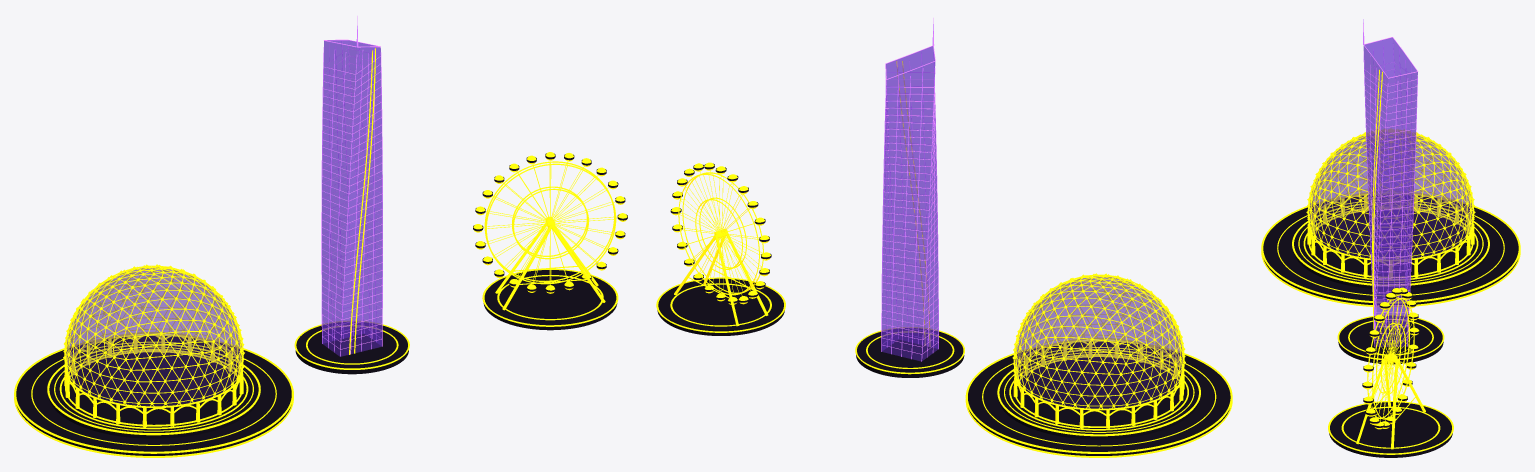
The model's file is heroes.glb.
3 renders of one model, left to right at view 1: azimuth 30°, elevation 25°; view 2: azimuth 150°, elevation 25°; view 3: azimuth 270°, elevation 25°, orthographic. The views are drawn at different scales.
Visible parts, largest first — view 1: Platform_Tiers, Tower_Glass, Dome_Glass, Dome_Lattice, Tower_Edges, Wheel_Platform, Platform_Rims, Tower_Platform, Dome_Colonnade, Wheel_Spokes, Dome_Joints, Wheel_Rims (+6 smaller); view 2: Platform_Tiers, Tower_Glass, Dome_Glass, Dome_Lattice, Tower_Edges, Wheel_Platform, Platform_Rims, Tower_Platform, Dome_Colonnade, Dome_Joints, Wheel_Spokes, Wheel_Rims (+5 smaller); view 3: Platform_Tiers, Tower_Glass, Dome_Glass, Dome_Lattice, Tower_Edges, Wheel_Platform, Platform_Rims, Dome_Colonnade, Tower_Platform, Dome_Joints, Wheel_Spokes, Wheel_HubPods (+6 smaller).
Boxes of the visible parts, bbox=[...] form: Platform_Tiers: bbox=[16, 336, 291, 455]; Tower_Glass: bbox=[322, 40, 382, 356]; Dome_Glass: bbox=[66, 267, 241, 405]; Dome_Lattice: bbox=[64, 265, 243, 406]; Tower_Edges: bbox=[321, 39, 382, 356]; Wheel_Platform: bbox=[483, 270, 617, 330]; Platform_Rims: bbox=[14, 334, 293, 457]; Tower_Platform: bbox=[295, 322, 408, 374]; Dome_Colonnade: bbox=[59, 332, 248, 429]; Wheel_Spokes: bbox=[483, 161, 617, 285]; Dome_Joints: bbox=[63, 264, 244, 404]; Wheel_Rims: bbox=[484, 161, 616, 284]; Platform_Tiers: bbox=[968, 341, 1230, 455]; Tower_Glass: bbox=[882, 46, 938, 361]; Dome_Glass: bbox=[1015, 276, 1182, 408]; Dome_Lattice: bbox=[1013, 274, 1184, 408]; Tower_Edges: bbox=[881, 45, 938, 361]; Wheel_Platform: bbox=[657, 278, 784, 335]; Platform_Rims: bbox=[965, 340, 1232, 457]; Tower_Platform: bbox=[856, 328, 964, 377]; Dome_Colonnade: bbox=[1009, 338, 1188, 430]; Dome_Joints: bbox=[1012, 273, 1185, 407]; Wheel_Spokes: bbox=[679, 171, 762, 296]; Wheel_Rims: bbox=[678, 172, 763, 295]; Platform_Tiers: bbox=[1263, 195, 1518, 304]; Tower_Glass: bbox=[1363, 37, 1417, 346]; Dome_Glass: bbox=[1309, 136, 1472, 258]; Dome_Lattice: bbox=[1307, 129, 1474, 259]; Tower_Edges: bbox=[1363, 37, 1417, 346]; Wheel_Platform: bbox=[1329, 402, 1452, 457]; Platform_Rims: bbox=[1261, 193, 1520, 306]; Dome_Colonnade: bbox=[1303, 192, 1478, 280]; Tower_Platform: bbox=[1338, 316, 1443, 364]; Dome_Joints: bbox=[1306, 128, 1475, 258]; Wheel_Spokes: bbox=[1368, 295, 1413, 421]; Wheel_HubPods: bbox=[1362, 287, 1419, 429].
Size of the model in its own units: 73.4 by 42.17 by 30.58.
